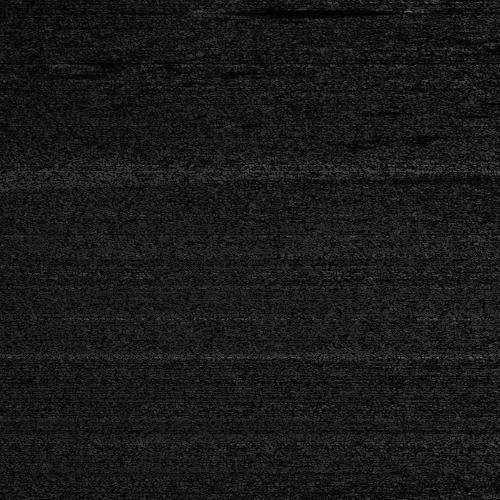rock: (170, 5, 243, 14)
shadow: (207, 5, 364, 14)
